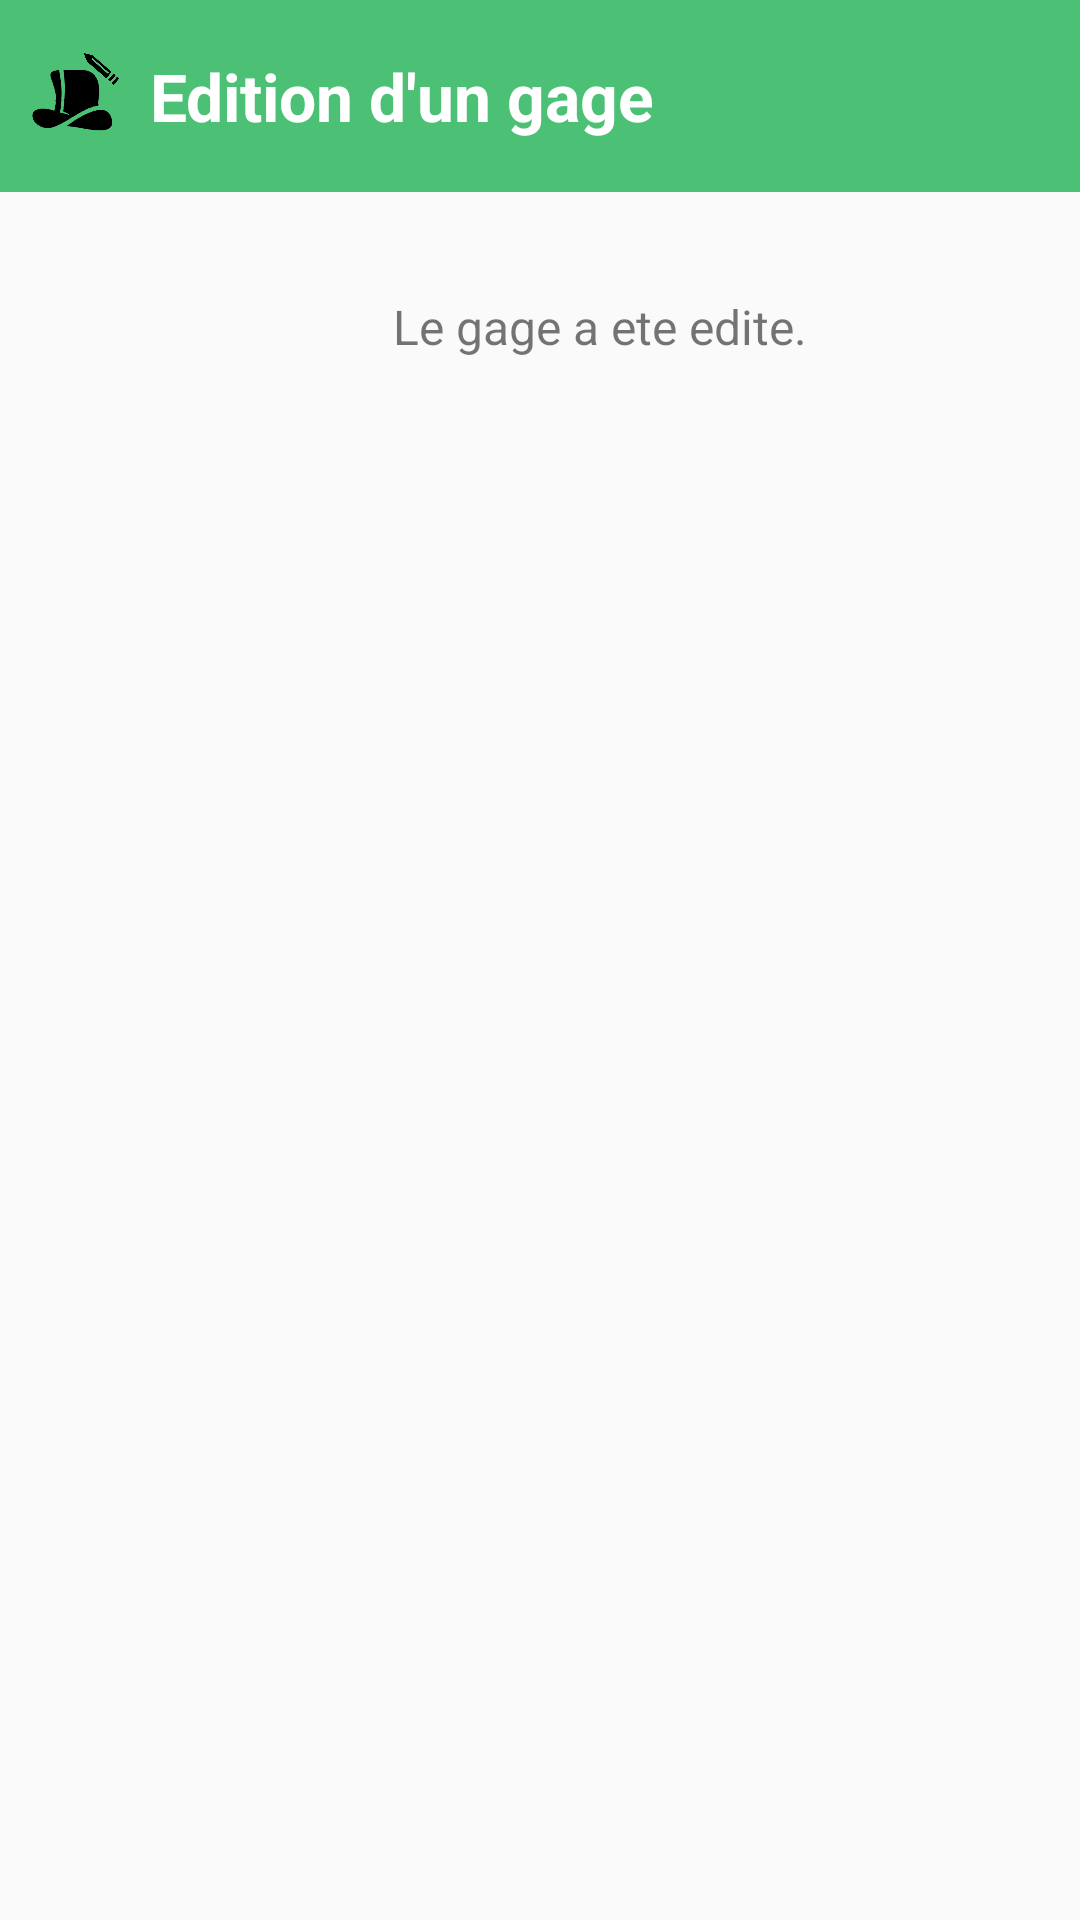

Icon bounding boxes for this 1080*1920 phone screenshot, format box(x1, y1, x2, y2):
edit objective: box(32, 53, 119, 131)
